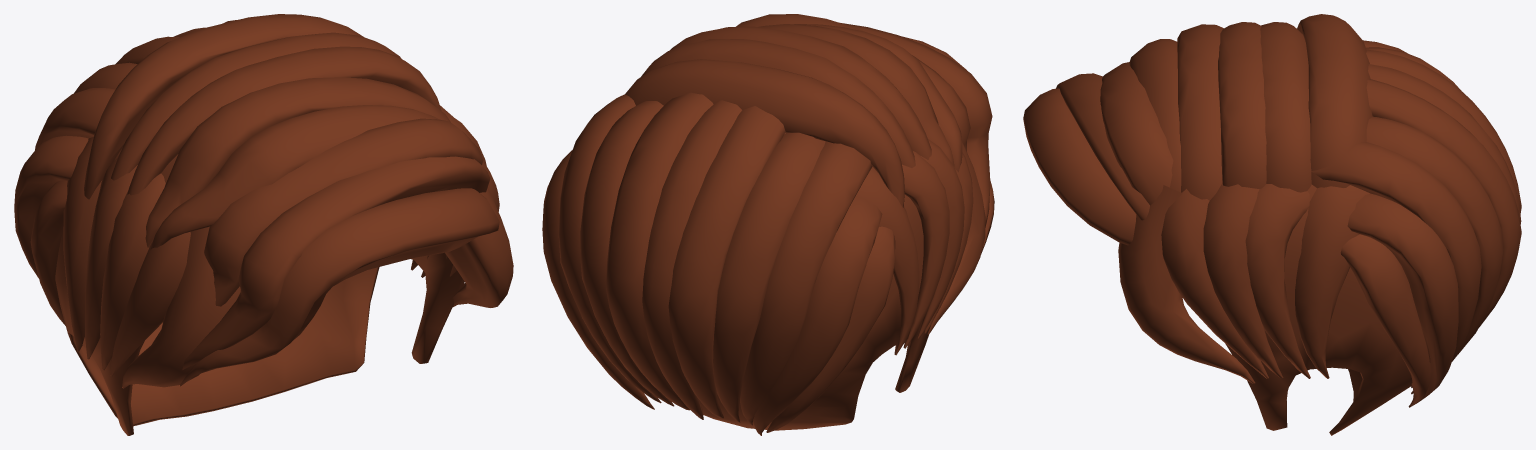
The model's file is hair-3-72311947.glb.
3 renders of one model, left to right at view 1: azimuth 30°, elevation 25°; view 2: azimuth 150°, elevation 25°; view 3: azimuth 270°, elevation 25°, orthographic. The views are drawn at different scales.
Parts seen in each view (by area): view 1: hair_3.001; view 2: hair_3.001; view 3: hair_3.001.
Boxes of the visible parts, x1,y1,x2,y2 form: hair_3.001: [14, 14, 513, 435]; hair_3.001: [542, 14, 994, 435]; hair_3.001: [1023, 14, 1521, 435].
Bounding box in the file's own units: 1.67 × 1.66 × 2.11.
